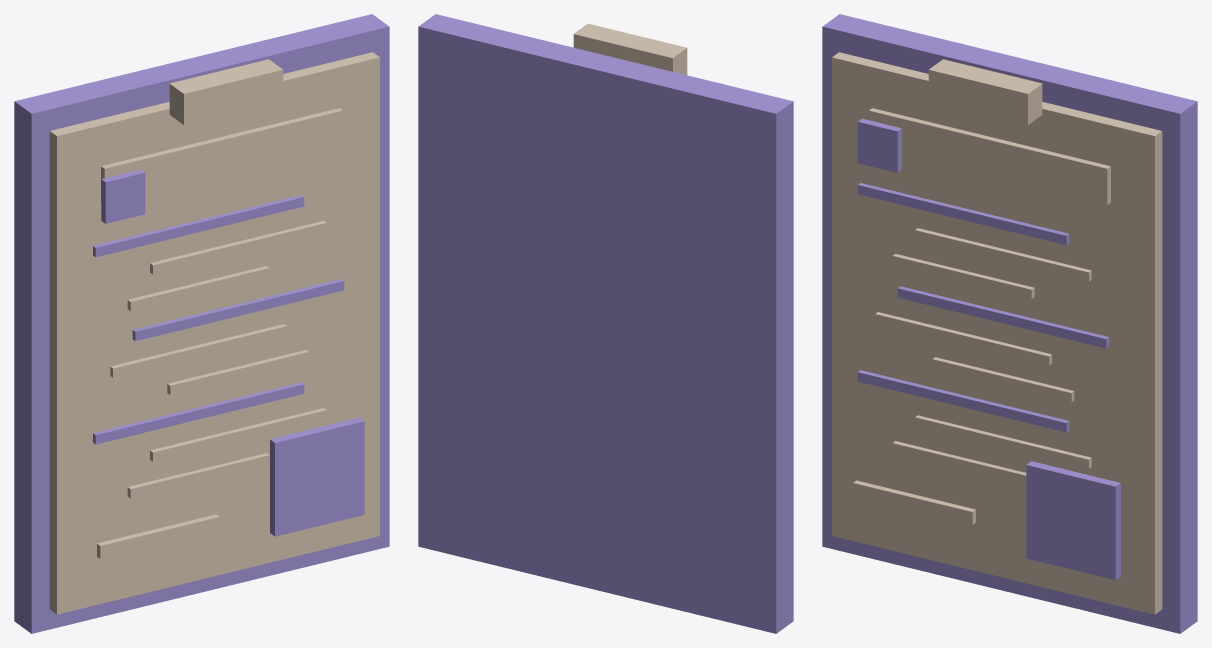
The model's file is incident_report.gltf.
3 views of the same model, side by side, from view 1: azimuth 30°, elevation 25°; view 2: azimuth 150°, elevation 25°; view 3: azimuth 330°, elevation 25° (orthographic).
Parts seen in each view (by area): view 1: paper, frame, stamp, header, clip, text_3, text_0, text_6, text_1, text_4, text_7, signature (+4 smaller); view 2: frame, clip; view 3: paper, frame, stamp, header, clip, text_6, text_3, text_0, text_4, text_7, text_1, signature (+4 smaller).
Boxes of the visible parts, x1,y1,x2,y2 form: paper: (49,52,379,614); frame: (14,14,389,633); stamp: (270,417,364,536); header: (101,108,342,202); clip: (169,59,283,124); text_3: (132,279,344,341); text_0: (93,195,304,257); text_6: (93,382,304,444); text_1: (150,221,326,274); text_4: (110,324,286,377); text_7: (150,408,326,461); signature: (97,514,219,558); frame: (418,14,793,633); clip: (573,23,687,75); paper: (832,52,1162,614); frame: (822,14,1197,633); stamp: (1026,461,1120,580); header: (869,108,1110,204); clip: (928,59,1042,124); text_6: (857,370,1069,432); text_3: (897,286,1109,348); text_0: (857,183,1069,245); text_4: (875,312,1051,365); text_7: (915,415,1091,468); text_1: (915,228,1091,281); signature: (853,480,975,524).
Bounding box in the file's own units: 0.72 × 1.01 × 0.14.
